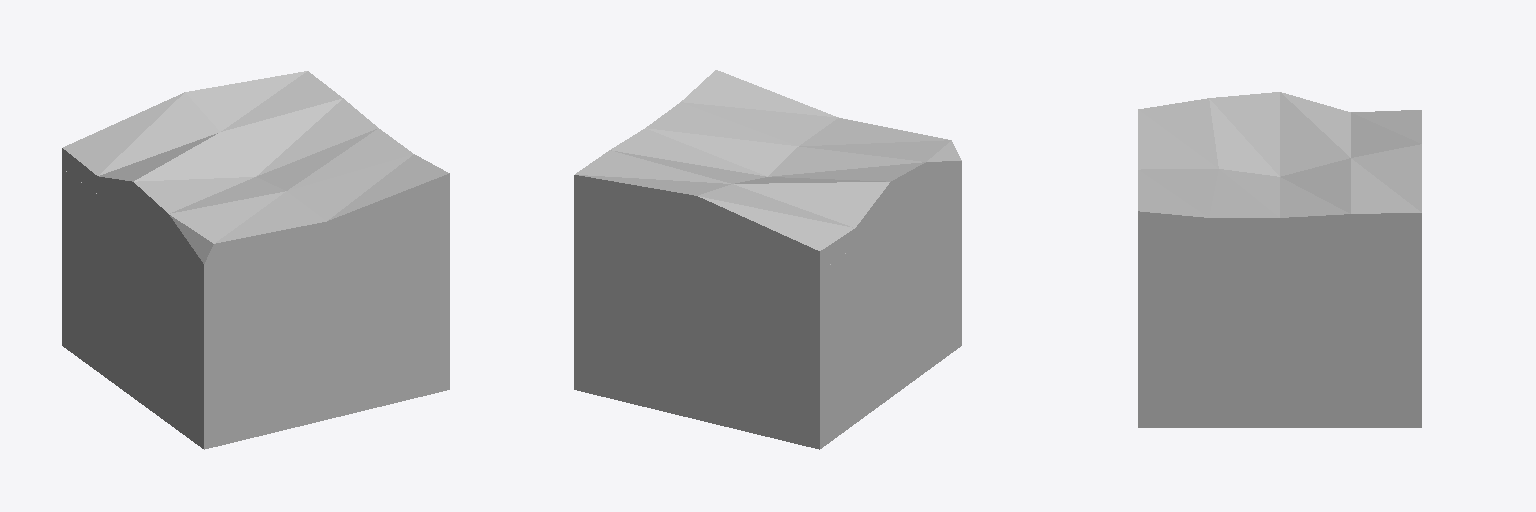
The model's file is grassP1.obj.
3 views of the same model, side by side, from view 1: azimuth 30°, elevation 25°; view 2: azimuth 150°, elevation 25°; view 3: azimuth 270°, elevation 25° (orthographic).
Parts seen in each view (by area): view 1: Cube; view 2: Cube; view 3: Cube.
Part boxes in pixels (left/top/right/bottom): Cube: left=62, top=71, right=449, bottom=449; Cube: left=574, top=70, right=961, bottom=449; Cube: left=1138, top=92, right=1421, bottom=427.
Bounding box in the file's own units: 159 × 139 × 159.